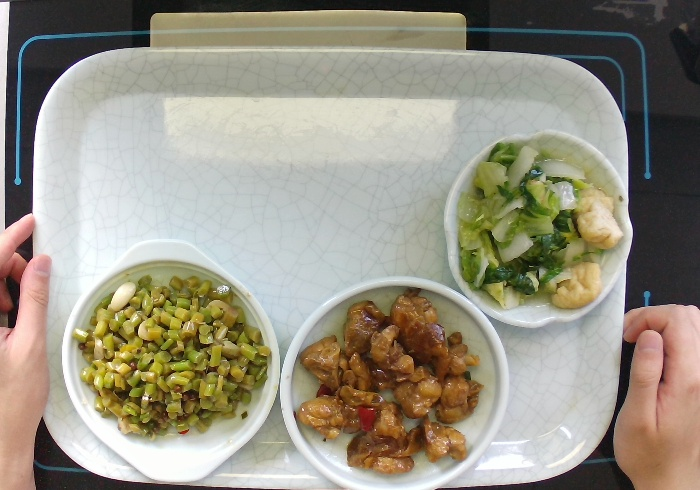JYsf-Ao_Yuan_Wan: (437, 123, 639, 331)
JYsf-Shuang_Er_Pan: (55, 233, 284, 485)
JYsf-Xiao_Yuan_Pan: (278, 272, 518, 490)
